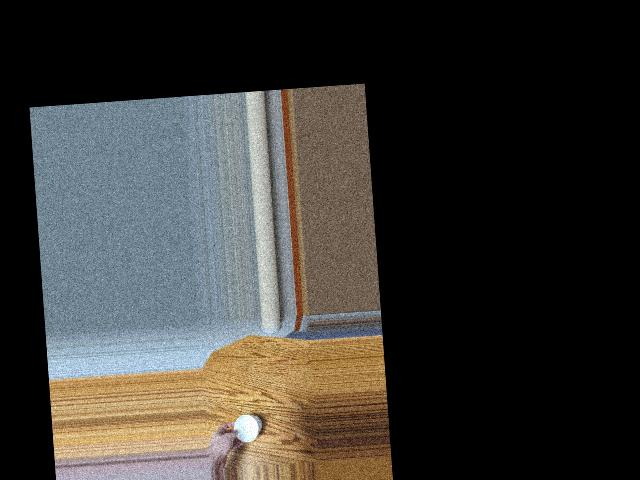cotage: (228, 409, 262, 448)
